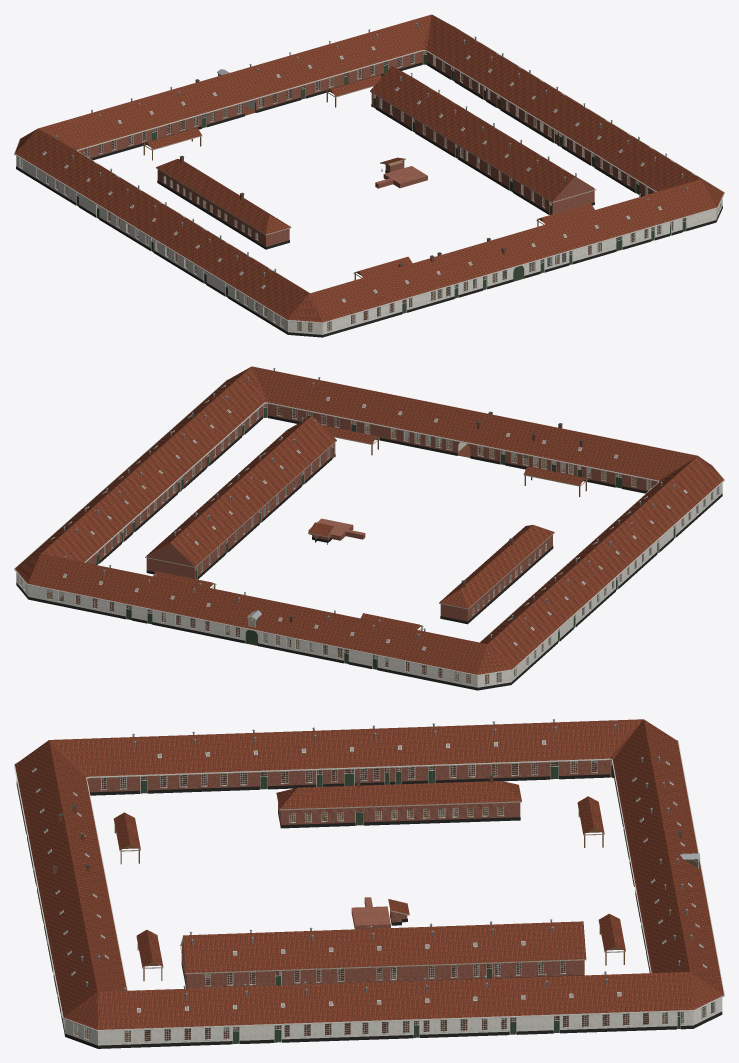
Rendered from hoofdgebouw_ommerschans_1895_draco.glb.
3 views of the same model, one above another, from view 1: azimuth 30°, elevation 25°; view 2: azimuth 150°, elevation 25°; view 3: azimuth 270°, elevation 25° (orthographic). The views are drawn at different scales.
Parts seen in each view (by area): view 1: Hoofdgebouw_Dak, Binnenplein_Stallen_Dak, Hoofdgebouw_Gevels_buiten, Hoofdgebouw_Gevels_binnenplein, Hoofdgebouw_Kozijnen, Hoofdgebouw_Plint, Hoofdgebouw_Glas, Hoofdgebouw_Goten, Binnenplein_Touragemagazijn_Dak, Binnenplein_Stallen_Gevels, Binnenplein_Touragemagazijn_Gevels, Hoofdgebouw_Deuren (+3 smaller); view 2: Hoofdgebouw_Dak, Binnenplein_Stallen_Dak, Hoofdgebouw_Gevels_buiten, Hoofdgebouw_Gevels_binnenplein, Hoofdgebouw_Kozijnen, Hoofdgebouw_Glas, Hoofdgebouw_Plint, Hoofdgebouw_Goten, Binnenplein_Touragemagazijn_Dak, Binnenplein_Stallen_Gevels, Binnenplein_Touragemagazijn_Gevels, Hoofdgebouw_Deuren (+5 smaller); view 3: Hoofdgebouw_Dak, Binnenplein_Stallen_Dak, Hoofdgebouw_Gevels_buiten, Hoofdgebouw_Gevels_binnenplein, Binnenplein_Touragemagazijn_Dak, Binnenplein_Stallen_Gevels, Hoofdgebouw_Kozijnen, Hoofdgebouw_Plint, Hoofdgebouw_Glas, Hoofdgebouw_Goten, Binnenplein_Touragemagazijn_Gevels, Interieur_Stalinrichting (+15 smaller).
Boxes of the visible parts, x1=… form: Hoofdgebouw_Dak: x1=15, y1=14, x2=724, y2=322; Binnenplein_Stallen_Dak: x1=370, y1=66, x2=591, y2=201; Hoofdgebouw_Gevels_buiten: x1=16, y1=156, x2=722, y2=334; Hoofdgebouw_Gevels_binnenplein: x1=78, y1=51, x2=654, y2=195; Hoofdgebouw_Kozijnen: x1=20, y1=39, x2=720, y2=332; Hoofdgebouw_Plint: x1=16, y1=62, x2=722, y2=337; Hoofdgebouw_Glas: x1=20, y1=47, x2=720, y2=331; Hoofdgebouw_Goten: x1=14, y1=26, x2=724, y2=323; Binnenplein_Touragemagazijn_Dak: x1=156, y1=159, x2=290, y2=234; Binnenplein_Stallen_Gevels: x1=371, y1=93, x2=594, y2=214; Binnenplein_Touragemagazijn_Gevels: x1=157, y1=169, x2=289, y2=246; Hoofdgebouw_Deuren: x1=76, y1=54, x2=685, y2=313; Hoofdgebouw_Dak: x1=15, y1=366, x2=723, y2=674; Binnenplein_Stallen_Dak: x1=146, y1=415, x2=336, y2=566; Hoofdgebouw_Gevels_buiten: x1=16, y1=483, x2=722, y2=687; Hoofdgebouw_Gevels_binnenplein: x1=86, y1=403, x2=657, y2=564; Hoofdgebouw_Kozijnen: x1=20, y1=385, x2=718, y2=684; Hoofdgebouw_Glas: x1=20, y1=385, x2=718, y2=684; Hoofdgebouw_Plint: x1=16, y1=415, x2=722, y2=690; Hoofdgebouw_Goten: x1=14, y1=379, x2=724, y2=675; Binnenplein_Touragemagazijn_Dak: x1=439, y1=525, x2=554, y2=608; Binnenplein_Stallen_Gevels: x1=146, y1=443, x2=335, y2=578; Binnenplein_Touragemagazijn_Gevels: x1=440, y1=535, x2=552, y2=621; Hoofdgebouw_Deuren: x1=96, y1=407, x2=675, y2=669; Hoofdgebouw_Dak: x1=15, y1=719, x2=723, y2=1029; Binnenplein_Stallen_Dak: x1=183, y1=921, x2=586, y2=972; Hoofdgebouw_Gevels_buiten: x1=16, y1=780, x2=722, y2=1045; Hoofdgebouw_Gevels_binnenplein: x1=87, y1=760, x2=650, y2=972; Binnenplein_Touragemagazijn_Dak: x1=276, y1=781, x2=521, y2=809; Binnenplein_Stallen_Gevels: x1=181, y1=945, x2=584, y2=988; Hoofdgebouw_Kozijnen: x1=32, y1=740, x2=714, y2=1043; Hoofdgebouw_Plint: x1=16, y1=774, x2=722, y2=1048; Hoofdgebouw_Glas: x1=32, y1=740, x2=714, y2=1041; Hoofdgebouw_Goten: x1=14, y1=739, x2=724, y2=1031; Binnenplein_Touragemagazijn_Gevels: x1=278, y1=802, x2=520, y2=825; Interieur_Stalinrichting: x1=101, y1=761, x2=648, y2=1038.
Bounding box in the file's own units: 119 × 8.59 × 118.
23 materials, 16 textured.
